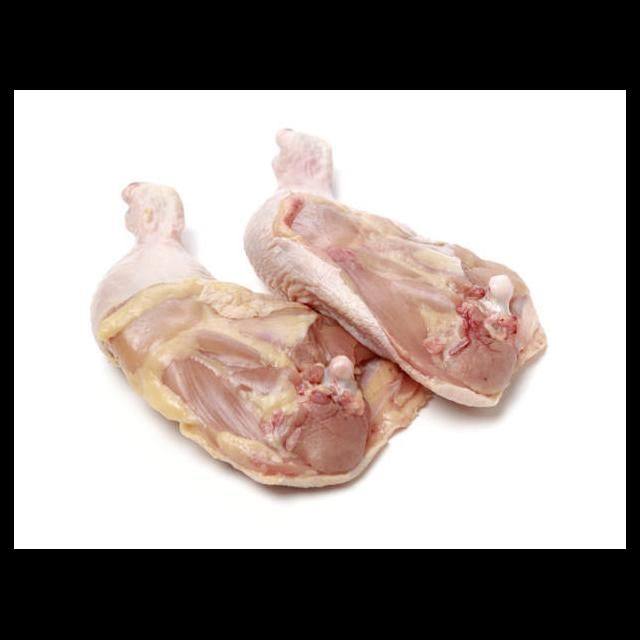chicken: (89, 128, 551, 492)
